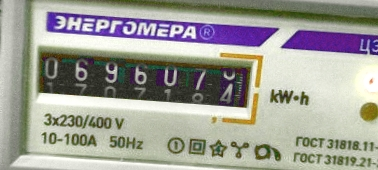0: (41, 54, 60, 79), (161, 61, 178, 87)
4: (217, 80, 234, 105)
6: (71, 56, 90, 82), (131, 60, 150, 85)
7: (191, 65, 208, 92)
9: (101, 59, 119, 84)
screen: (20, 31, 267, 122)
